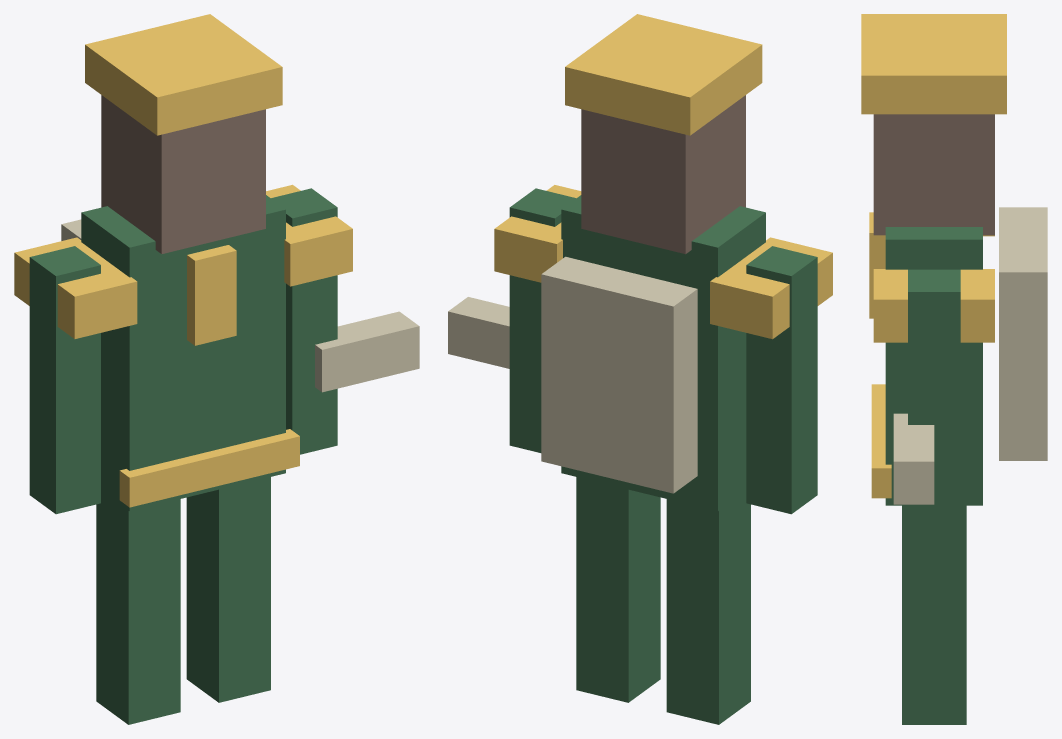
Rendered from 06_vexa_gantryn_herald_under_summit.glb.
3 renders of one model, left to right at view 1: azimuth 30°, elevation 25°; view 2: azimuth 150°, elevation 25°; view 3: azimuth 270°, elevation 25°, orthographic.
Visible parts, largest first — view 1: Vexa Gantryn, Herald under Summit; view 2: Vexa Gantryn, Herald under Summit; view 3: Vexa Gantryn, Herald under Summit.
Boxes of the visible parts, left/top/right/bottom form: Vexa Gantryn, Herald under Summit: left=14, top=14, right=419, bottom=724; Vexa Gantryn, Herald under Summit: left=448, top=14, right=832, bottom=724; Vexa Gantryn, Herald under Summit: left=861, top=14, right=1047, bottom=724.
Size of the model in its own units: 0.9702 by 1.66 by 0.4354.
